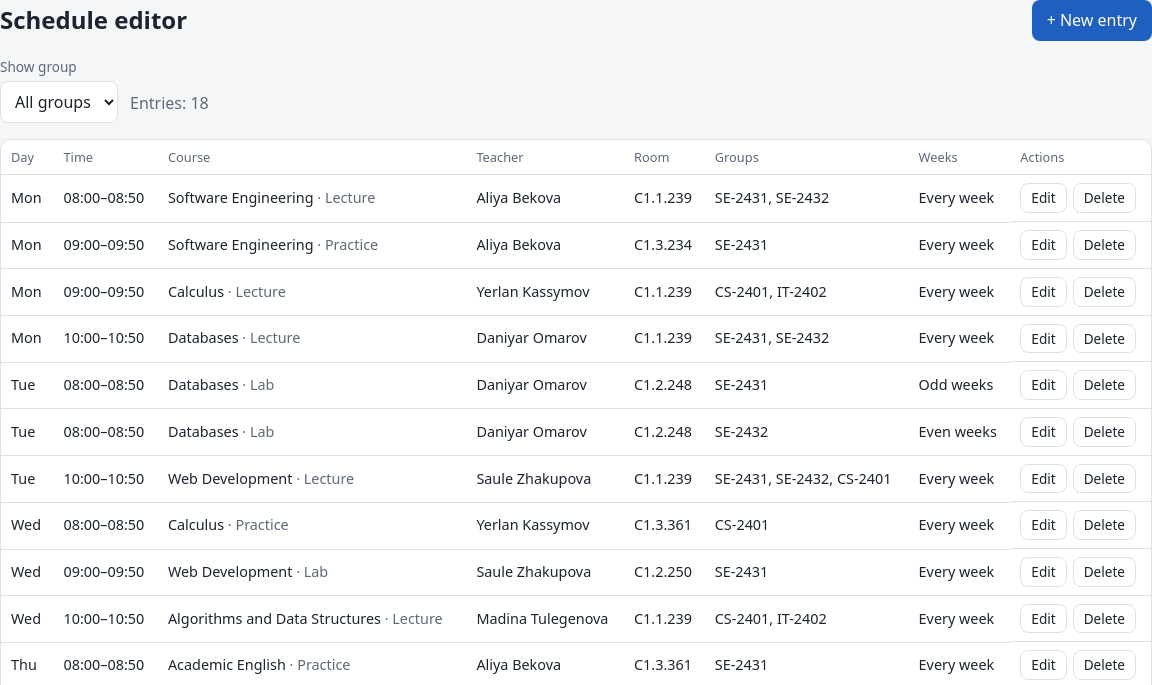
Test: AdminEntriesPage › requires at least one group
Click the button "+ New entry" at x=1092, y=21, box left=1032, top=0, right=1151, bottom=41
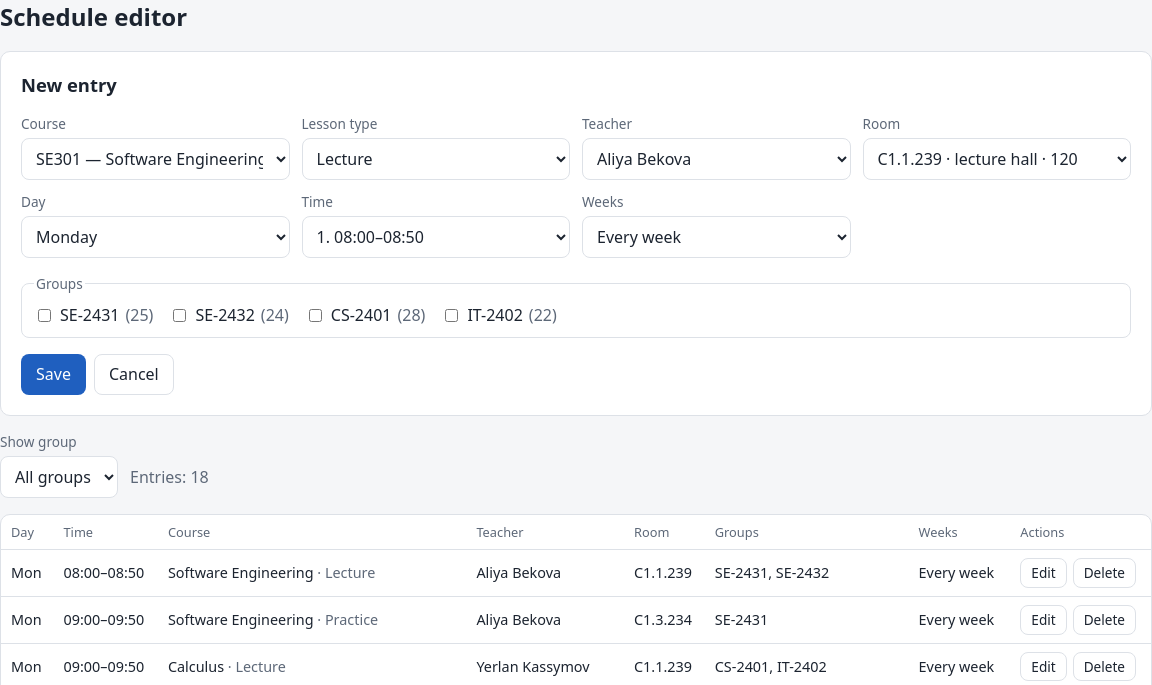
Click the button "Save" at x=53, y=374, box left=21, top=354, right=86, bottom=395
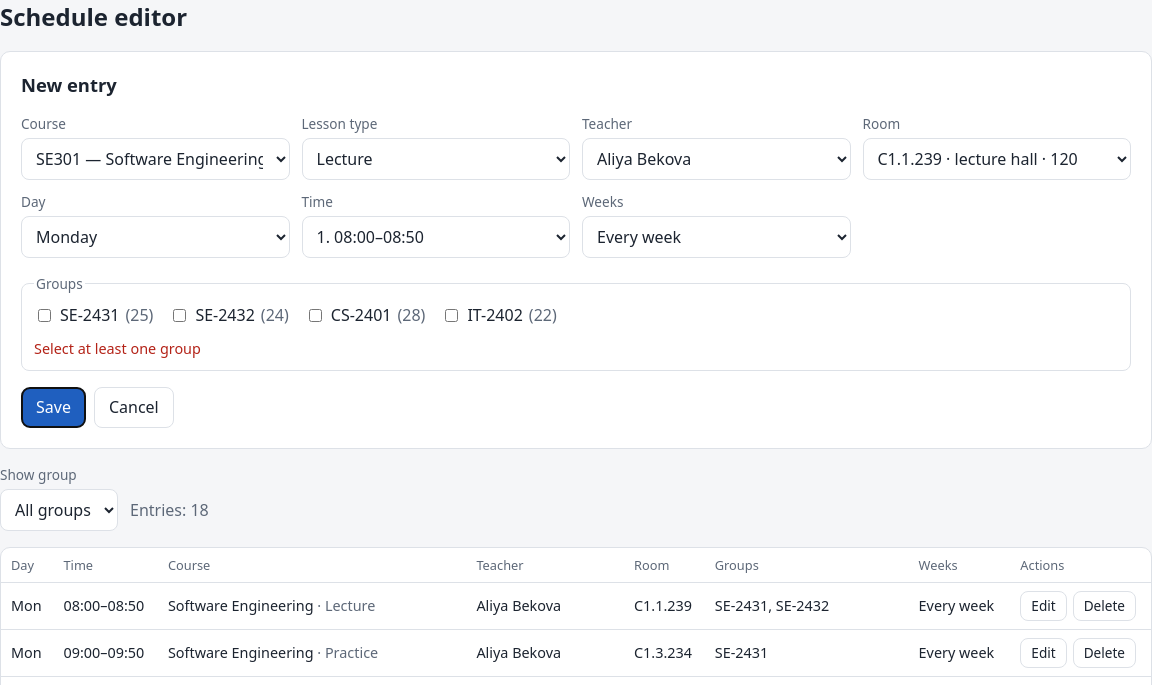
Check: the text "Select at least one group" is shown, box left=34, top=339, right=201, bottom=358
